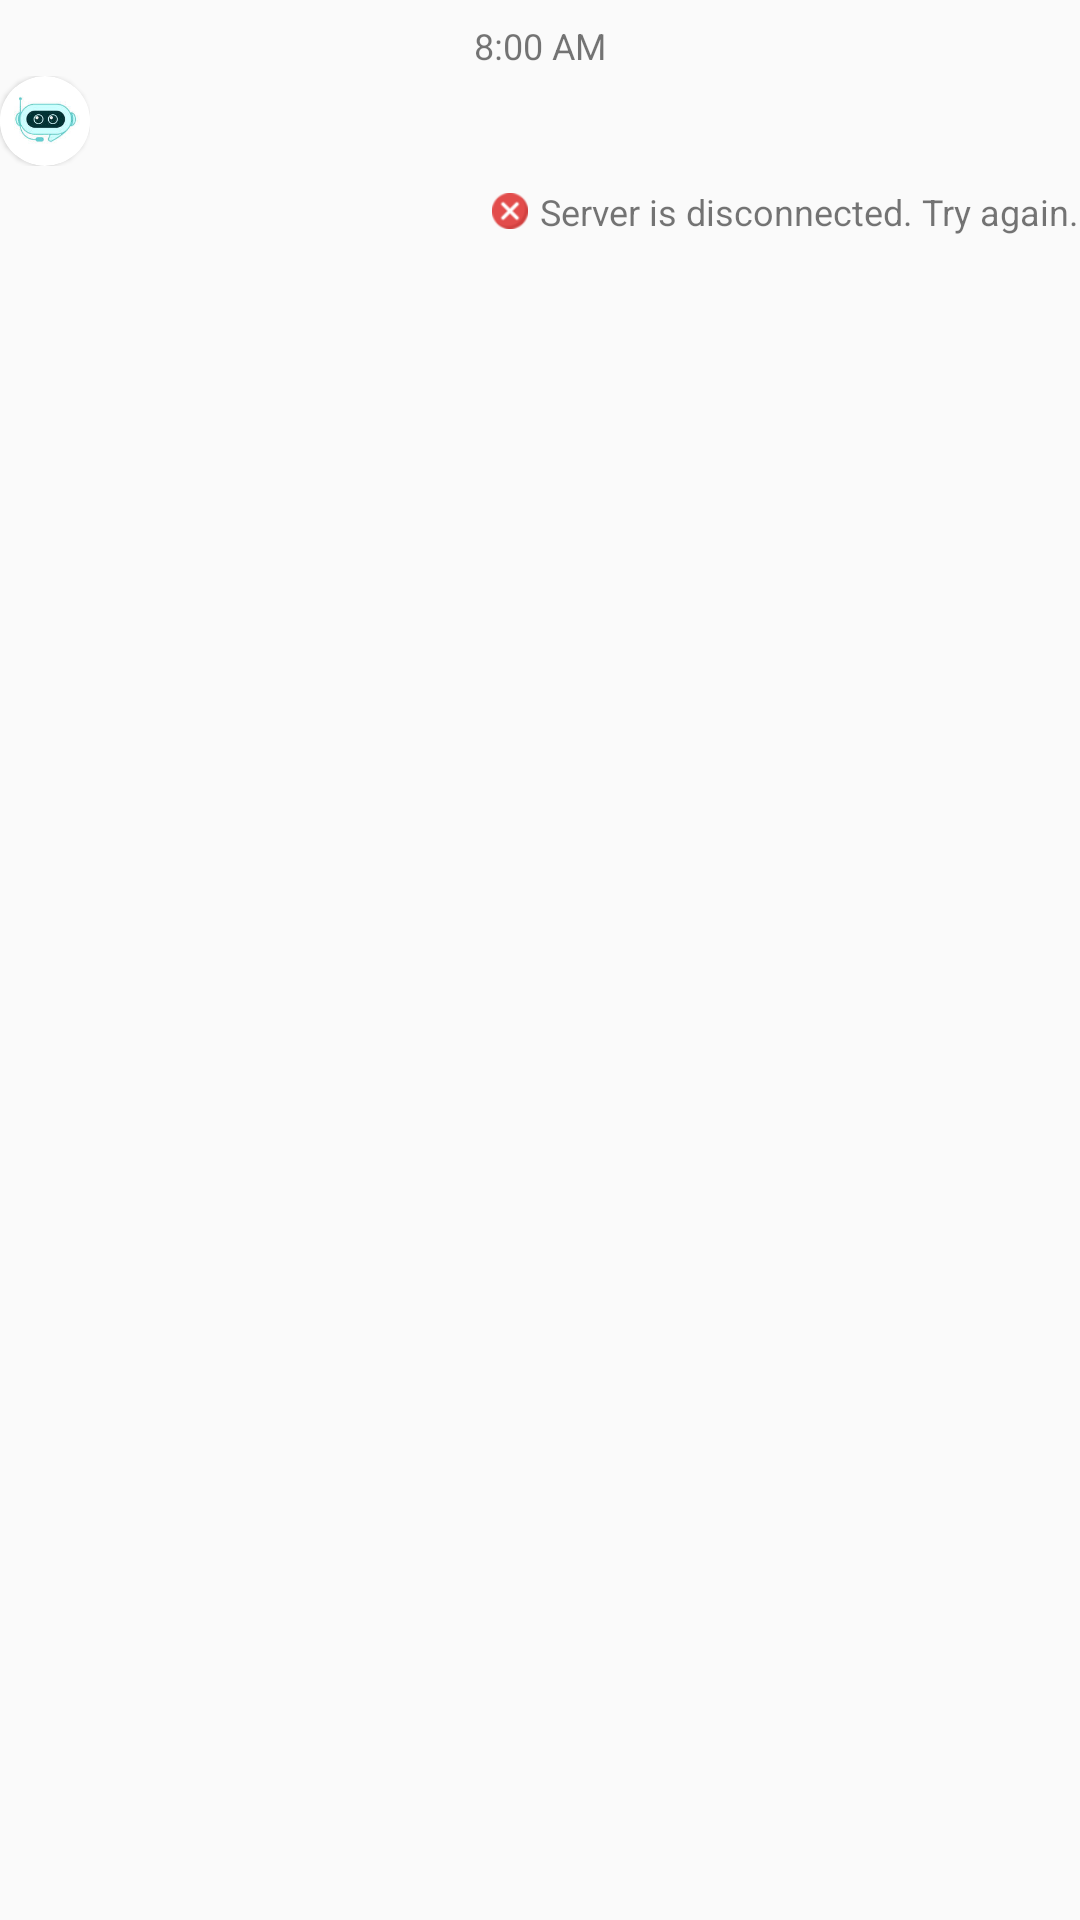

Screen size 1080x1920. Icon name, then its center in pixels as [x,y]:
error: [510,211]
